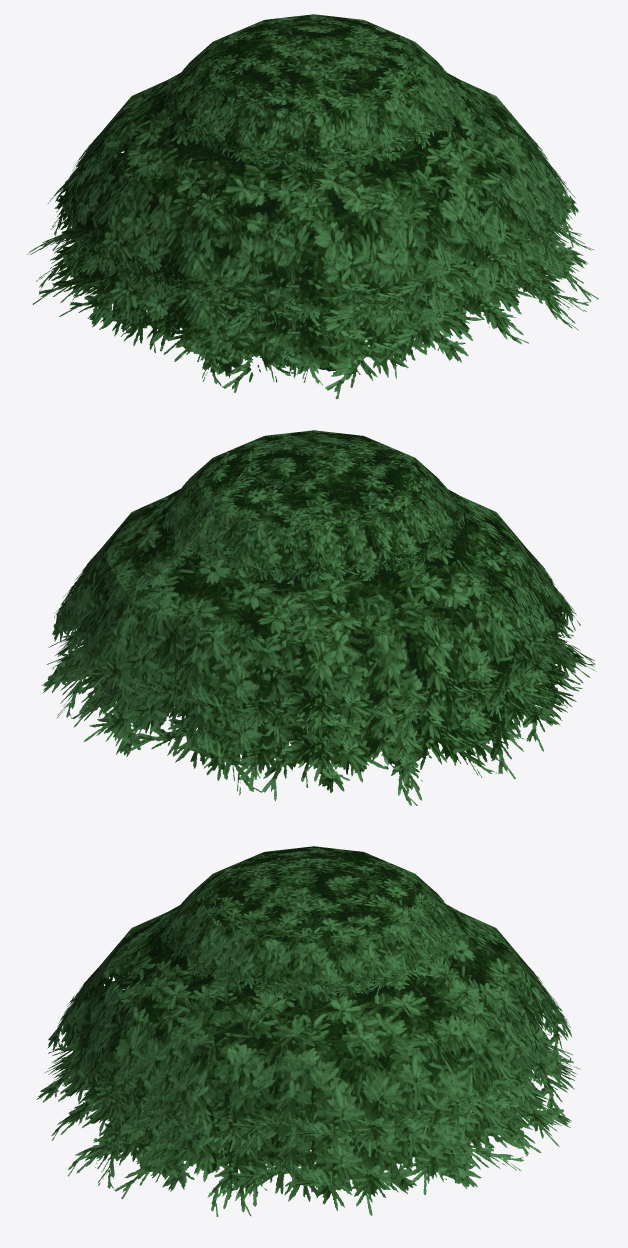
Rendered from Arbusto1_Mod.fbx.
The picture shows the model from 3 angles, top to bottom: view 1: azimuth 30°, elevation 25°; view 2: azimuth 150°, elevation 25°; view 3: azimuth 270°, elevation 25°; orthographic projection.
Parts seen in each view (by area): view 1: Arbusto1_Mod; view 2: Arbusto1_Mod; view 3: Arbusto1_Mod.
Boxes of the visible parts, left/top/right/bottom form: Arbusto1_Mod: left=27, top=14, right=598, bottom=399; Arbusto1_Mod: left=42, top=430, right=596, bottom=805; Arbusto1_Mod: left=36, top=846, right=581, bottom=1216.
Size of the model in its own units: 269 by 116 by 269.
